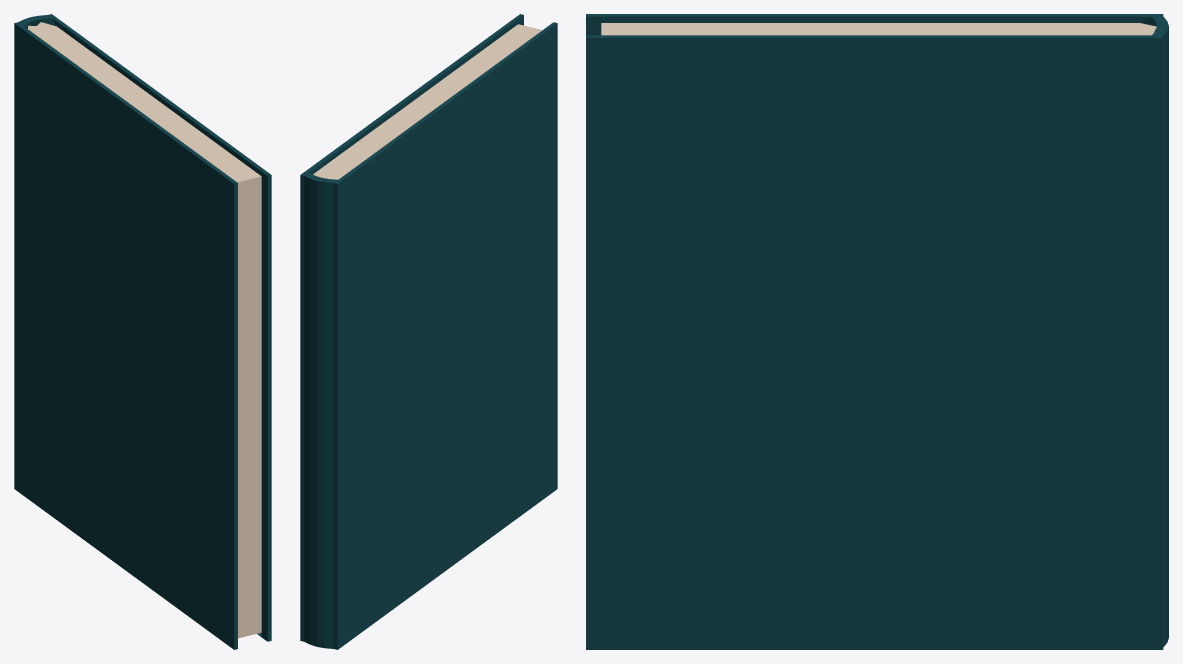
File: livro4.fbx
3 views of the same model, side by side, from view 1: azimuth 30°, elevation 25°; view 2: azimuth 150°, elevation 25°; view 3: azimuth 270°, elevation 25° (orthographic). The views are drawn at different scales.
Visible parts, largest first — view 1: Cube; view 2: Cube; view 3: Cube.
Boxes of the visible parts, x1=… form: Cube: x1=14, y1=14, x2=271, y2=649; Cube: x1=300, y1=14, x2=557, y2=649; Cube: x1=586, y1=14, x2=1168, y2=649.
Size of the model in its own units: 12.82 by 153 by 132.
